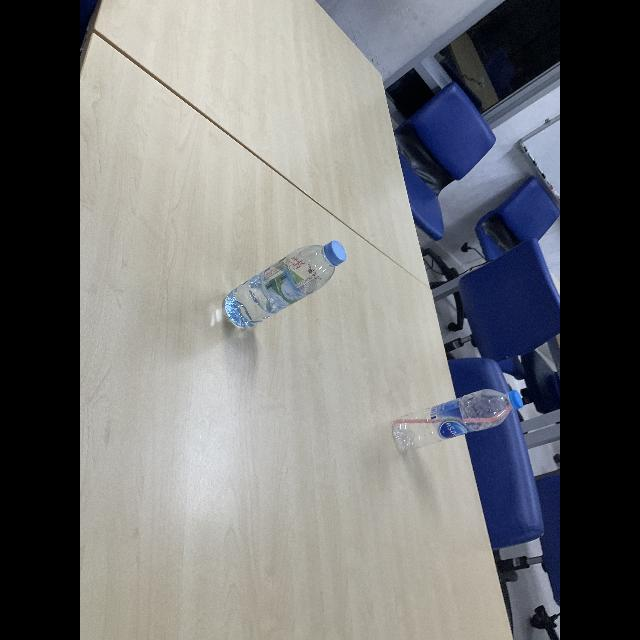plastic_bottle: (222, 238, 346, 332), (392, 386, 522, 459)
plastic_bottle_cap: (324, 240, 346, 266), (509, 390, 523, 410)
straw: (392, 404, 512, 424)
